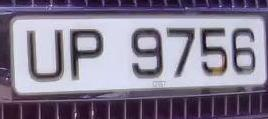5: (198, 23, 231, 82)
6: (229, 23, 260, 82)
7: (164, 21, 200, 86)
9: (125, 20, 167, 87)
P: (65, 20, 110, 83)
U: (19, 22, 69, 86)
